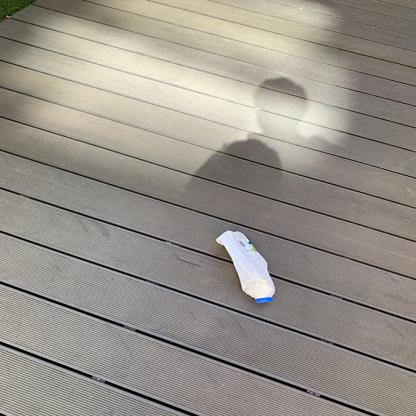trash: (215, 228, 279, 307)
